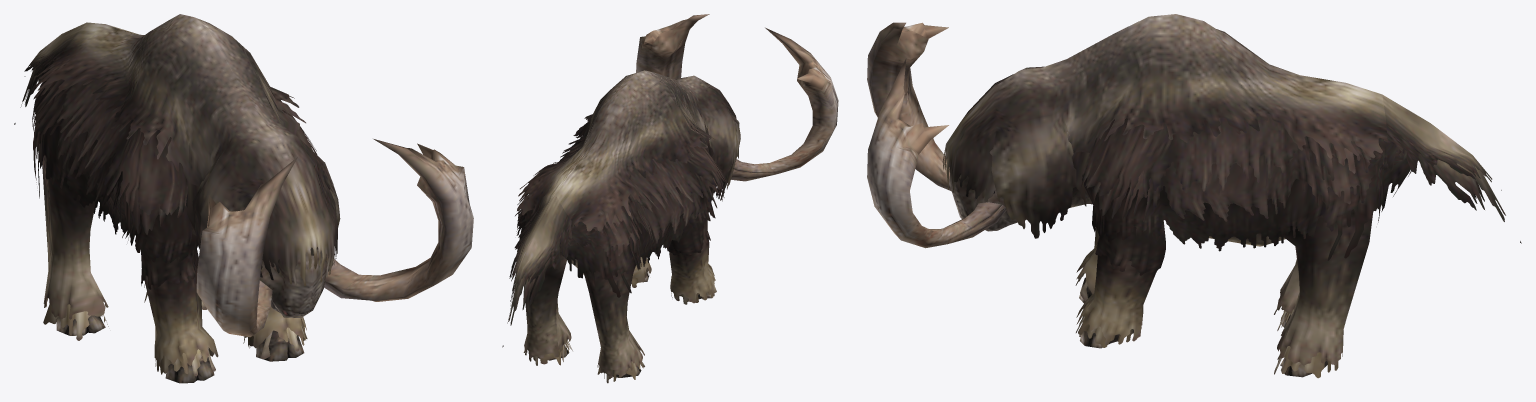
The model's file is popo.obj.
3 views of the same model, side by side, from view 1: azimuth 30°, elevation 25°; view 2: azimuth 150°, elevation 25°; view 3: azimuth 270°, elevation 25° (orthographic). The views are drawn at different scales.
Visible parts, largest first — view 1: em70-0001-1, em70-0001-0, em70-0001-6, em70-0001-2, em70-0001-7, em70-0001-5, em70-0001-4, em70-0001-8; view 2: em70-0001-1, em70-0001-0, em70-0001-7, em70-0001-2, em70-0001-6, em70-0001-5, em70-0001-8, em70-0001-4; view 3: em70-0001-1, em70-0001-0, em70-0001-2, em70-0001-6, em70-0001-5, em70-0001-7, em70-0001-4, em70-0001-8.
Part boxes in pixels (box(x1,y1,x2,y2)): em70-0001-1: box(43, 14, 335, 376); em70-0001-0: box(40, 22, 473, 383); em70-0001-6: box(30, 57, 317, 217); em70-0001-2: box(14, 62, 191, 262); em70-0001-7: box(36, 44, 305, 182); em70-0001-5: box(32, 70, 166, 234); em70-0001-4: box(192, 162, 340, 285); em70-0001-8: box(24, 44, 68, 76); em70-0001-1: box(523, 70, 736, 383); em70-0001-0: box(521, 14, 838, 377); em70-0001-7: box(517, 114, 715, 231); em70-0001-2: box(502, 183, 715, 347); em70-0001-6: box(515, 131, 727, 248); em70-0001-5: box(516, 170, 724, 260); em70-0001-8: box(509, 207, 572, 301); em70-0001-4: box(704, 110, 740, 200); em70-0001-1: box(946, 14, 1385, 378); em70-0001-0: box(867, 22, 1471, 377); em70-0001-2: box(1084, 148, 1521, 260); em70-0001-6: box(1081, 113, 1407, 199); em70-0001-5: box(1092, 148, 1405, 221); em70-0001-7: box(1090, 102, 1387, 159); em70-0001-4: box(942, 120, 1076, 238); em70-0001-8: box(1386, 120, 1501, 190).
Bounding box in the file's own units: 317 × 391 × 688.
Materials: 2 (2 with a texture image).
